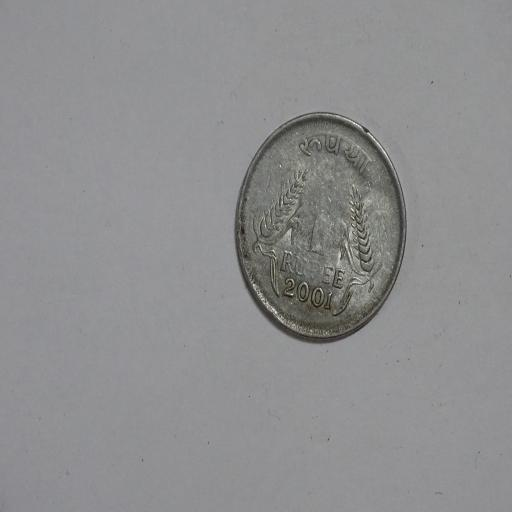rupee1: (233, 113, 406, 341)
